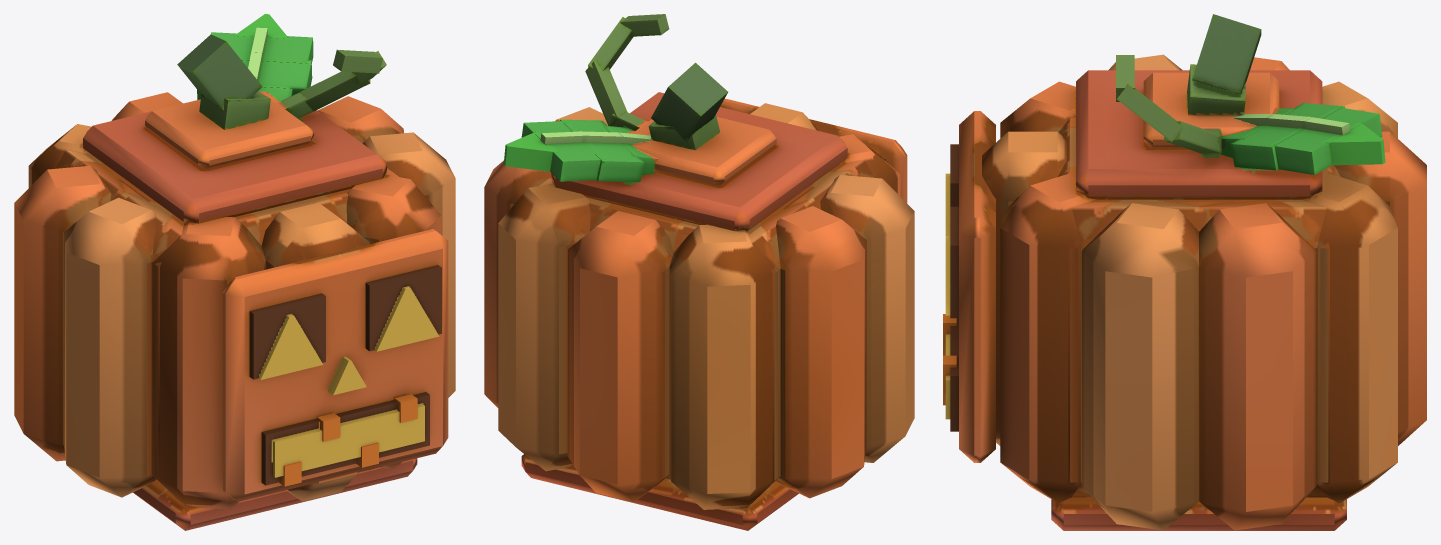
The model's file is CitrouilleSculptee_Rig.fbx.
The picture shows the model from 3 angles, left to right: view 1: azimuth 30°, elevation 25°; view 2: azimuth 150°, elevation 25°; view 3: azimuth 270°, elevation 25°; orthographic projection. The views are drawn at different scales.
Parts seen in each view (by area): view 1: Body, Vine; view 2: Body, Vine; view 3: Body, Vine.
Part boxes in pixels (x1,y1,x2,y2): Body: (14, 34, 455, 530); Vine: (197, 14, 386, 118); Body: (484, 62, 914, 530); Vine: (503, 14, 669, 182); Body: (943, 14, 1426, 530); Vine: (1116, 55, 1385, 174).
Size of the model in its own units: 5.77 by 6 by 5.77.
1 material, 1 textured.
